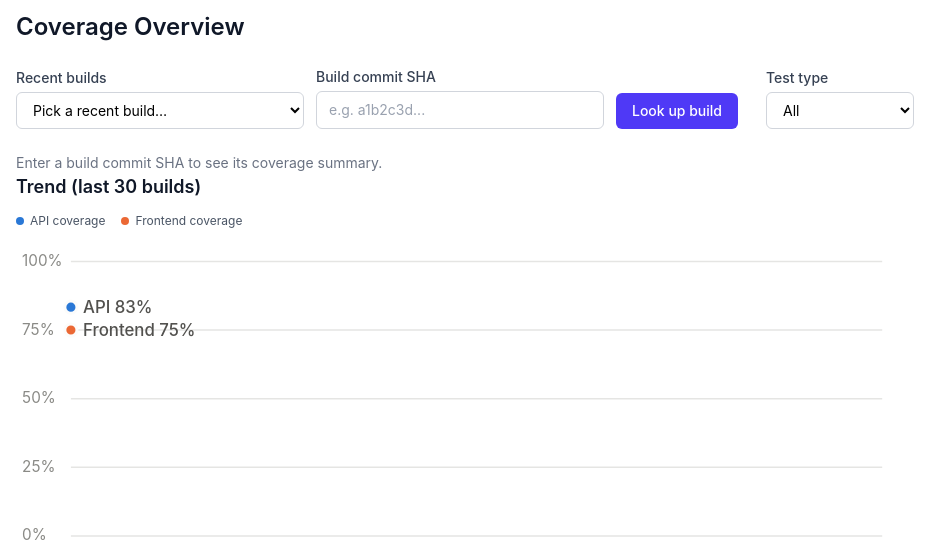
Scenario: OverviewPage › shows a not-found message on a 404 (commit never ingested)
The image size is (931, 557).
Type "never-ingested" into the field with test id "commit-sha-input" at (460, 110), box [316,91,604,129]
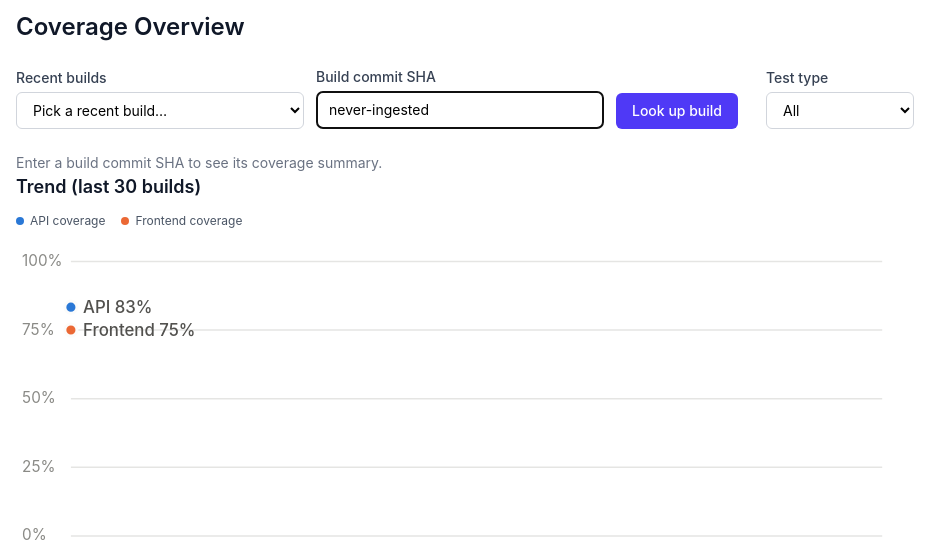
Click the button with test id "commit-sha-submit-button" at (677, 111), box [616,93,738,129]
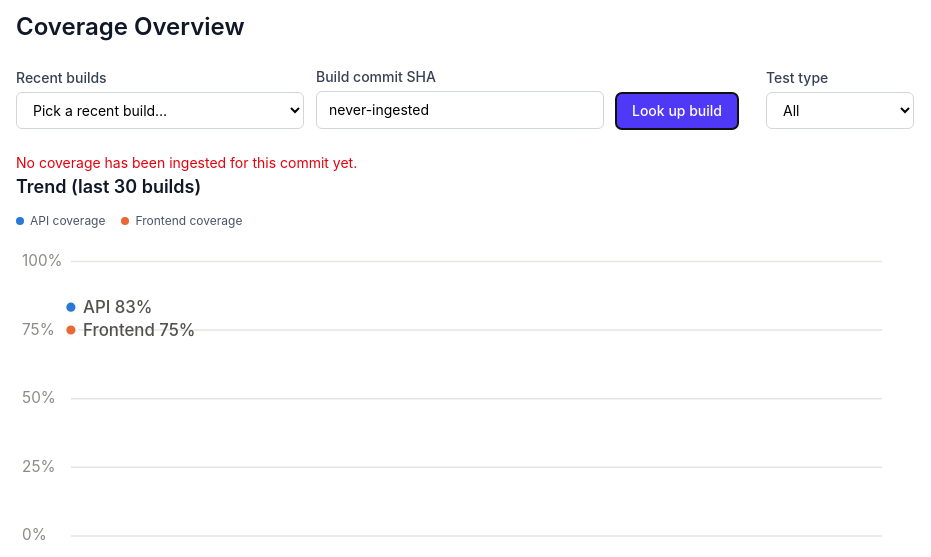
Result: the text with test id "summary-error" shows "No coverage has been ingested" at [16,154,357,171]
